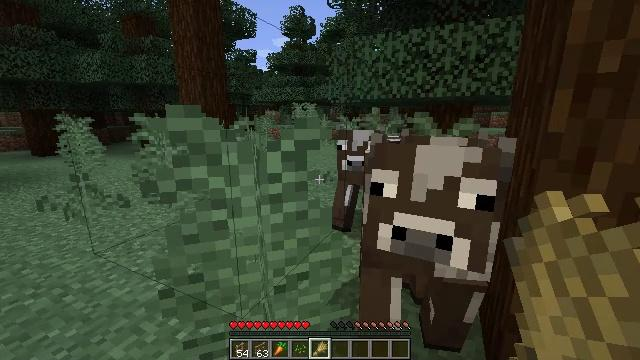cow: (366, 137, 509, 349), (332, 130, 383, 231)
